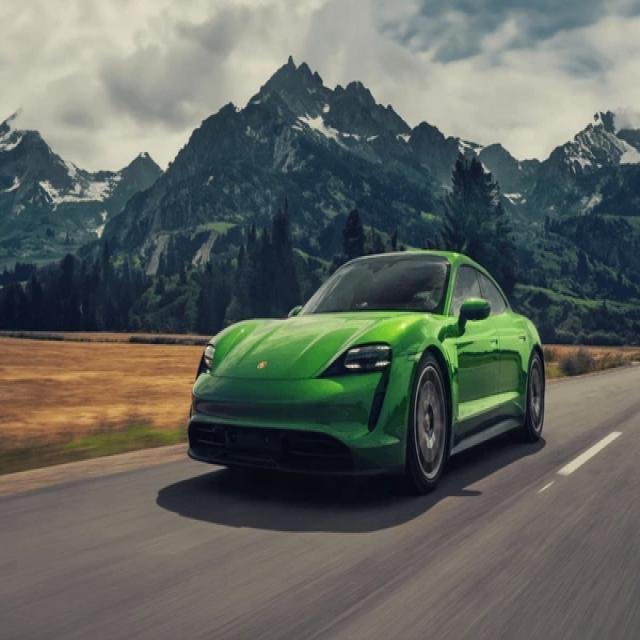porsche: (254, 356, 268, 372)
